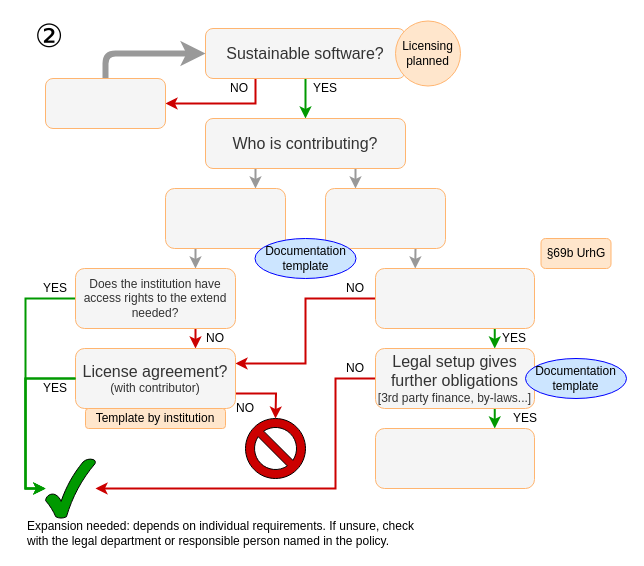
The diagram is 644 pixels wide and 566 high, and some of its shapes have lost their labels. Each missing label, with the box of its shape:
External: (164, 188, 286, 248)
Go to legal: (374, 428, 534, 488)
Internal (e.g. students, professor, staff...): (324, 188, 446, 248)
Maybe later?: (44, 78, 166, 128)
Subject to directives [weisungsgebunden dt.]: (374, 268, 534, 328)
